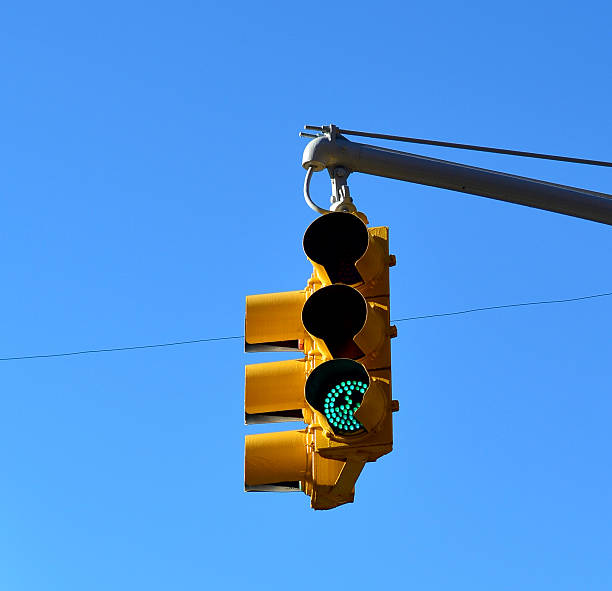traffic light: (208, 170, 467, 564)
